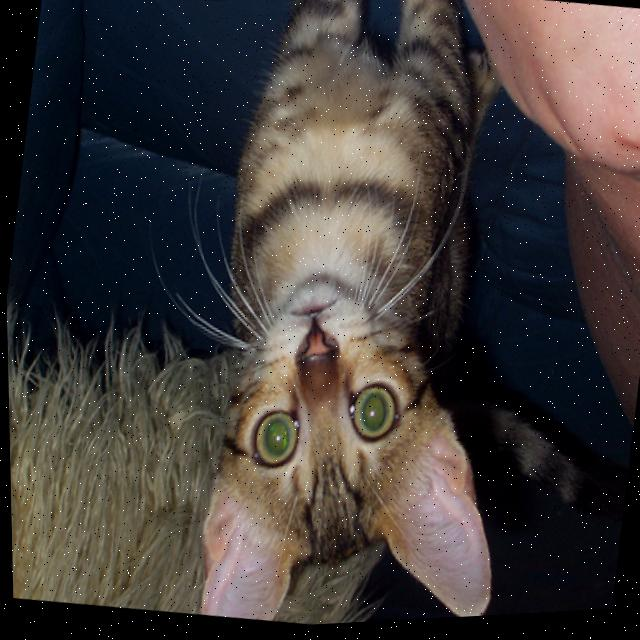Egyptian Mau: (167, 0, 570, 633)
